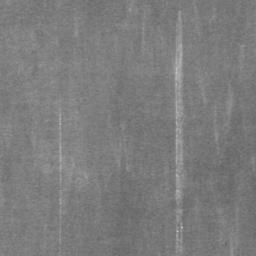Bright scratch: (175, 11, 184, 256), (59, 108, 62, 256)
